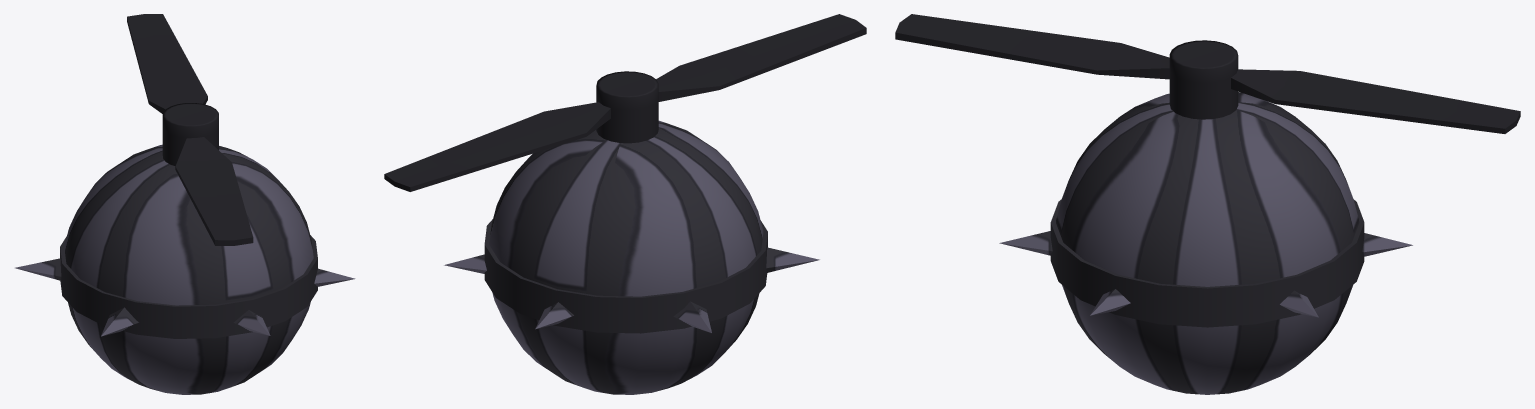
Rendered from Helipod_Black.fbx.
3 views of the same model, side by side, from view 1: azimuth 30°, elevation 25°; view 2: azimuth 150°, elevation 25°; view 3: azimuth 270°, elevation 25° (orthographic). The views are drawn at different scales.
Parts seen in each view (by area): view 1: OuterSphere, Rotor, Spikes; view 2: OuterSphere, Rotor, Spikes; view 3: OuterSphere, Rotor, Spikes.
Part boxes in pixels (x1,y1,x2,y2): OuterSphere: (64,144,313,394); Rotor: (127,14,253,245); Spikes: (15,235,355,338); OuterSphere: (489,120,763,394); Rotor: (384,14,866,191); Spikes: (444,219,819,333); OuterSphere: (1056,92,1359,394); Rotor: (895,14,1520,133); Spikes: (999,199,1412,327).
Bounding box in the file's own units: 2.91 × 2.96 × 5.15.
3 materials, 1 textured.
